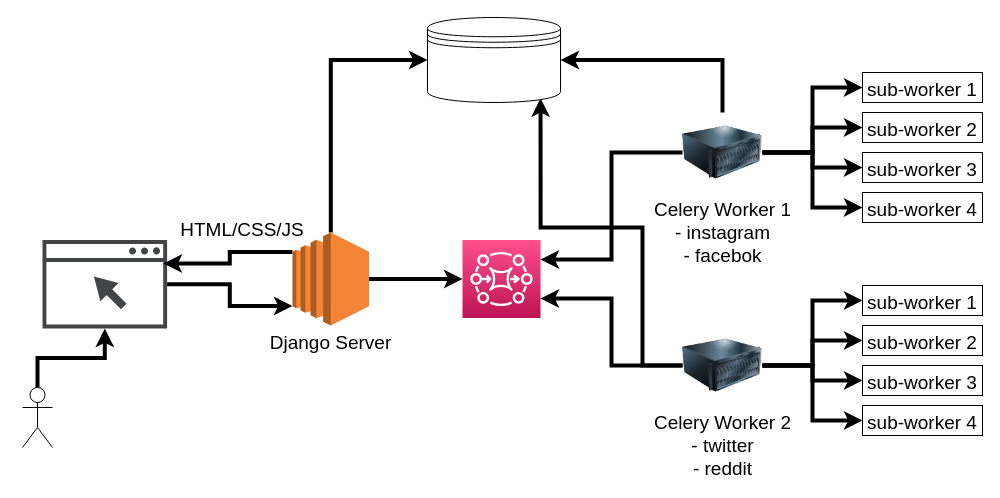
Some shapes in this 1000 by 498 pixel diagram are drawn without their labels. Here are the shapes that lost their labels. From the top down, the centre of each, then its label:
At pixel 493 59: "PostgreSQL 13.x".
At pixel 501 278: "RabbitMQ".
At pixel 37 417: "User".
